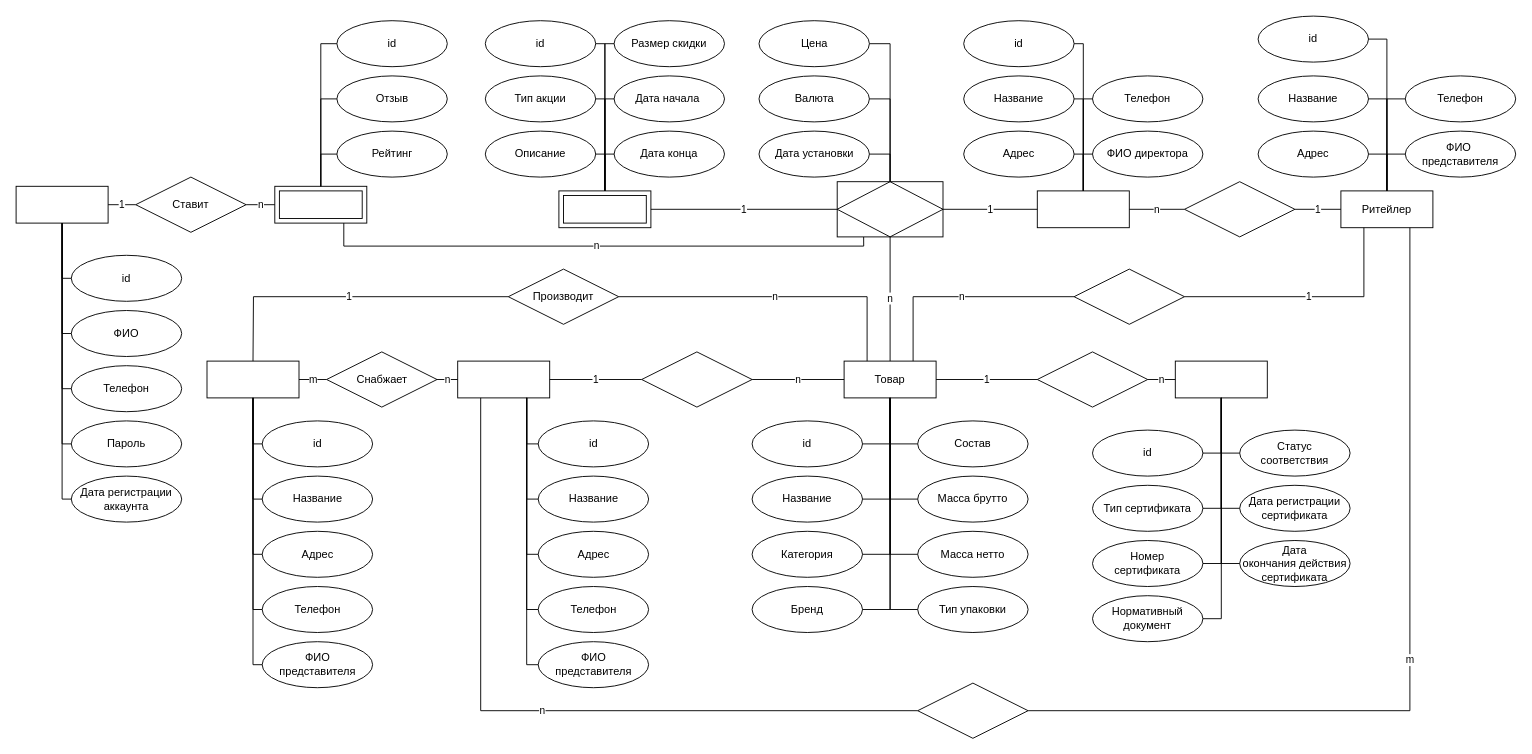
The diagram is 1532 pixels wide and 754 high, and some of its shapes have lost their labels. Here are the shapes that lost their labels. From the top down, the box of each, then its label:
(15, 185, 108, 223): Пользователь
(274, 185, 367, 223): Оценка
(558, 190, 651, 228): Акция
(836, 181, 943, 237): Продается
(1036, 190, 1129, 228): Магазин
(1184, 181, 1295, 237): Сотрудничает
(1073, 268, 1184, 324): Реализует
(206, 360, 299, 398): Производитель
(457, 360, 550, 398): Дистрибьютор
(641, 351, 752, 407): Распространяет
(1036, 351, 1148, 407): Соответствует
(1174, 360, 1267, 398): Сертификат соответствия
(917, 682, 1028, 738): Взаимодействует
